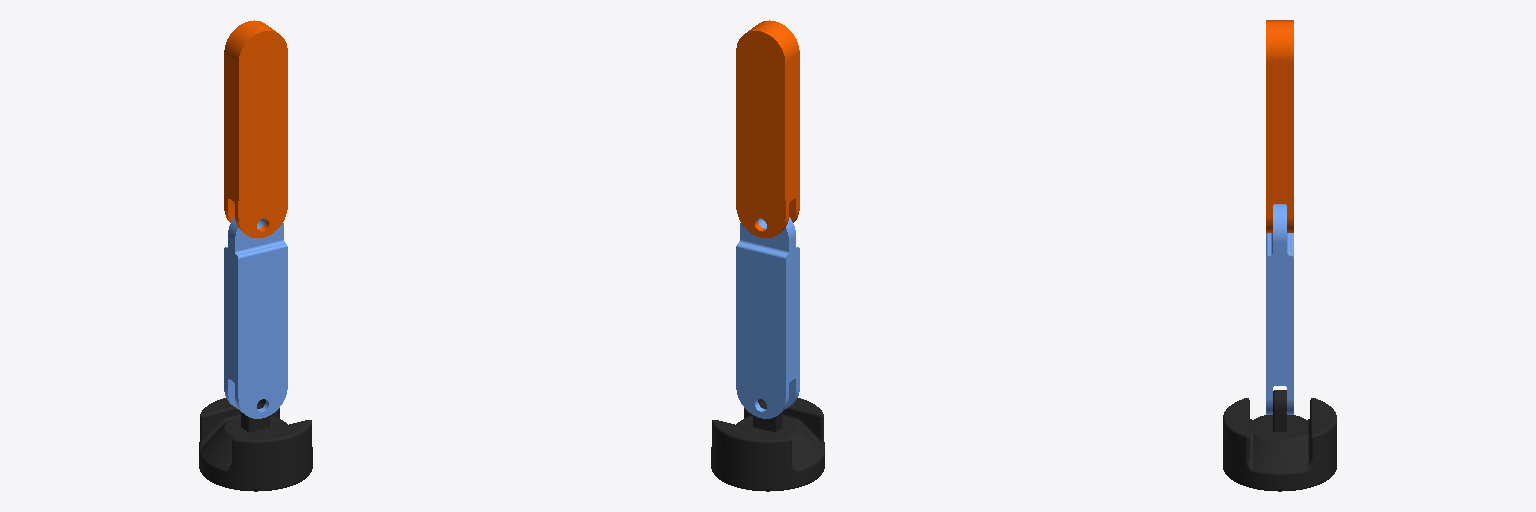
The robot description file, URDF, robot "simple_manipulator":
<?xml version="1.0" ?>
<!-- ======================================================================= -->
<!-- | This document was autogenerated by xacro from lbr_iiwa.urdf.xacro   | -->
<!-- | Original xacro: https://github.com/rtkg/lbr_iiwa/archive/master.zip | -->
<!-- | EDITING THIS FILE BY HAND IS NOT RECOMMENDED                        | -->
<!-- | Changes ([author]):                                                 | -->
<!-- |   * Removed gazebo tags.                                            | -->
<!-- |   * Removed unused materials.                                       | -->
<!-- |   * Made mesh paths relative.                                       | -->
<!-- |   * Removed material fields from collision segments.                | -->
<!-- |   * Removed the self_collision_checking segment.                    | -->
<!-- |   * Removed transmission segments, since they didn't match the      | -->
<!-- |     convention, will have to added back later.                      | -->
<!-- ======================================================================= -->
<!--LICENSE:                                                                 -->
<!--Copyright (c) 2015, [author] & [author], AASS Research Center,  -->
<!--Orebro University, Sweden                                                -->
<!--All rights reserved.                                                     -->
<!--                                                                         -->
<!--Redistribution and use in source and binary forms, with or without       -->
<!--modification, are permitted provided that the following conditions are   -->
<!--met:                                                                     -->
<!--                                                                         -->
<!--1. Redistributions of source code must retain the above copyright notice,-->
<!--   this list of conditions and the following disclaimer.                 -->
<!--                                                                         -->
<!--2. Redistributions in binary form must reproduce the above copyright     -->
<!--   notice, this list of conditions and the following disclaimer in the   -->
<!--   documentation and/or other materials provided with the distribution.  -->
<!--                                                                         -->
<!--THIS SOFTWARE IS PROVIDED BY THE COPYRIGHT [author] "AS  -->
<!--IS" AND ANY EXPRESS OR IMPLIED WARRANTIES, INCLUDING, BUT NOT LIMITED TO,-->
<!--THE IMPLIED WARRANTIES OF MERCHANTABILITY AND FITNESS FOR A PARTICULAR   -->
<!--PURPOSE ARE DISCLAIMED. IN NO EVENT SHALL THE COPYRIGHT [author]        -->
<!--CONTRIBUTORS BE LIABLE FOR ANY DIRECT, INDIRECT, INCIDENTAL, SPECIAL,    -->
<!--EXEMPLARY, OR CONSEQUENTIAL DAMAGES (INCLUDING, BUT NOT LIMITED TO,      -->
<!--PROCUREMENT OF SUBSTITUTE GOODS OR SERVICES; LOSS OF USE, DATA, OR       -->
<!--PROFITS; OR BUSINESS INTERRUPTION) HOWEVER CAUSED AND ON ANY THEORY OF   -->
<!--LIABILITY, WHETHER IN CONTRACT, STRICT LIABILITY, OR TORT (INCLUDING     -->
<!--NEGLIGENCE OR OTHERWISE) ARISING IN ANY WAY OUT OF THE USE OF THIS       -->
<!--SOFTWARE, EVEN IF ADVISED OF THE POSSIBILITY OF SUCH DAMAGE.             -->
<robot name="simple_manipulator" xmlns:xacro="http://www.ros.org/wiki/xacro">
  <!-- Import Rviz colors -->
  <material name="Grey">
    <color rgba="0.2 0.2 0.2 1.0"/>
  </material>
  <material name="Orange">
    <color rgba="1.0 0.423529411765 0.0392156862745 1.0"/>
  </material>
  <material name="Blue">
  <color rgba="0.5 0.7 1.0 1.0"/>      
</material>

  <!--Import the lbr iiwa macro -->
  <!--Import Transmissions -->
  <!--Include Utilities -->
  <!--The following macros are adapted from the LWR 4 definitions of the RCPRG - https://github.com/RCPRG-ros-pkg/lwr_robot -->
  <!--Little helper macros to define the inertia matrix needed for links.-->
  <!--Cuboid-->
  <!--Cylinder: length is along the y-axis! -->
  <!--lbr-->
  <link name="base">
    <inertial>
      <origin rpy="0 0 0" xyz="0 0 0.15"/>
      <!--Increase mass from 5 Kg original to provide a stable base to carry the
          arm.-->
      <mass value="0.5"/>
      <inertia ixx="0.05" ixy="0" ixz="0" iyy="0.06" iyz="0" izz="0.03"/>
    </inertial>
    <visual>
      <origin rpy="0 0 0" xyz="0 0 0"/>
      <geometry>
        <mesh filename="meshes/base_large.dae"/>
      </geometry>
      <material name="Grey"/>
    </visual>
    <collision>
      <origin rpy="0 0 0" xyz="0 0 0"/>
      <geometry>
        <mesh filename="meshes/base_large.stl"/>
      </geometry>
    </collision>
  </link>
  <!-- joint between link_0 and link_1 -->
  <joint name="lbr_iiwa_joint_1" type="revolute">
    <parent link="base"/>
    <child link="link_1"/>
    <origin rpy="0 -1.5707 0" xyz="0 0 0.265"/>
    <axis xyz="0 1 0"/>
    <limit effort="300" lower="-2.96705972839" upper="2.96705972839" velocity="10"/>
    <dynamics damping="0.5"/>
  </joint>
  <link name="link_1">
    <inertial>
      <origin rpy="0 0 0" xyz="0.35 0 0"/>
      <mass value="4"/>
      <inertia ixx="0.1" ixy="0" ixz="0" iyy="0.09" iyz="0" izz="0.02"/>
    </inertial>
    <visual>
      <origin rpy="0 0 0" xyz="0.35 0 0"/>
      <geometry>
        <mesh filename="meshes/link1_large.dae"/>
      </geometry>
      <material name="Blue"/>
    </visual>
    <collision>
      <origin rpy="0 0 0" xyz="0.35 0 0"/>
      <geometry>
        <mesh filename="meshes/link1_large.stl"/>
      </geometry>
    </collision>
  </link>
  <!-- joint between link_1 and link_2 -->
  <joint name="lbr_iiwa_joint_2" type="revolute">
    <parent link="link_1"/>
    <child link="link_2"/>
    <origin rpy="0 0 0" xyz="0.7 0 0"/>
    <axis xyz="0 1 0"/>
    <limit effort="300" lower="-2.09439510239" upper="2.09439510239" velocity="10"/>
    <dynamics damping="0.5"/>
  </joint>

  <link name="link_2">
    <inertial>
      <origin rpy="0 0 0" xyz="0.35 0 0"/>
      <mass value="4"/>
      <inertia ixx="0.1" ixy="0" ixz="0" iyy="0.09" iyz="0" izz="0.02"/>
    </inertial>
    <visual>
      <origin rpy="0 0 0" xyz="0.35 0 0"/>
      <geometry>
        <mesh filename="meshes/link2.dae"/>
      </geometry>
      <material name="Orange"/>
    </visual>
    <collision>
      <origin rpy="0 0 0" xyz="0.35 0 0"/>
      <geometry>
        <mesh filename="meshes/link2.stl"/>
      </geometry>
    </collision>
  </link>
  
</robot>

--- What the picture shows (computed from the rendered views, not written in the file) ---
Views: 3 orthographic renders of the robot side by side, from view 1: azimuth 30°, elevation 25°; view 2: azimuth 150°, elevation 25°; view 3: azimuth 270°, elevation 25°.
Model simple_manipulator with 3 links and 2 joints (2 revolute), rooted at base, posed all joints at 0.
Links seen in each view (by area): view 1: link_2, link_1, base; view 2: link_2, link_1, base; view 3: base, link_2, link_1.
Boxes of the visible links, bbox=[...] form: link_2: bbox=[224, 20, 287, 237]; link_1: bbox=[224, 217, 287, 418]; base: bbox=[199, 398, 312, 491]; link_2: bbox=[736, 20, 799, 237]; link_1: bbox=[736, 217, 799, 418]; base: bbox=[711, 398, 824, 491]; base: bbox=[1223, 390, 1336, 491]; link_2: bbox=[1266, 20, 1293, 232]; link_1: bbox=[1266, 204, 1293, 414].
Bounding box of the posed robot: 0.4 × 0.4 × 1.72 m (x, y, z).
3 mesh visuals loaded from 3 distinct referenced files (3 Collada DAE).
